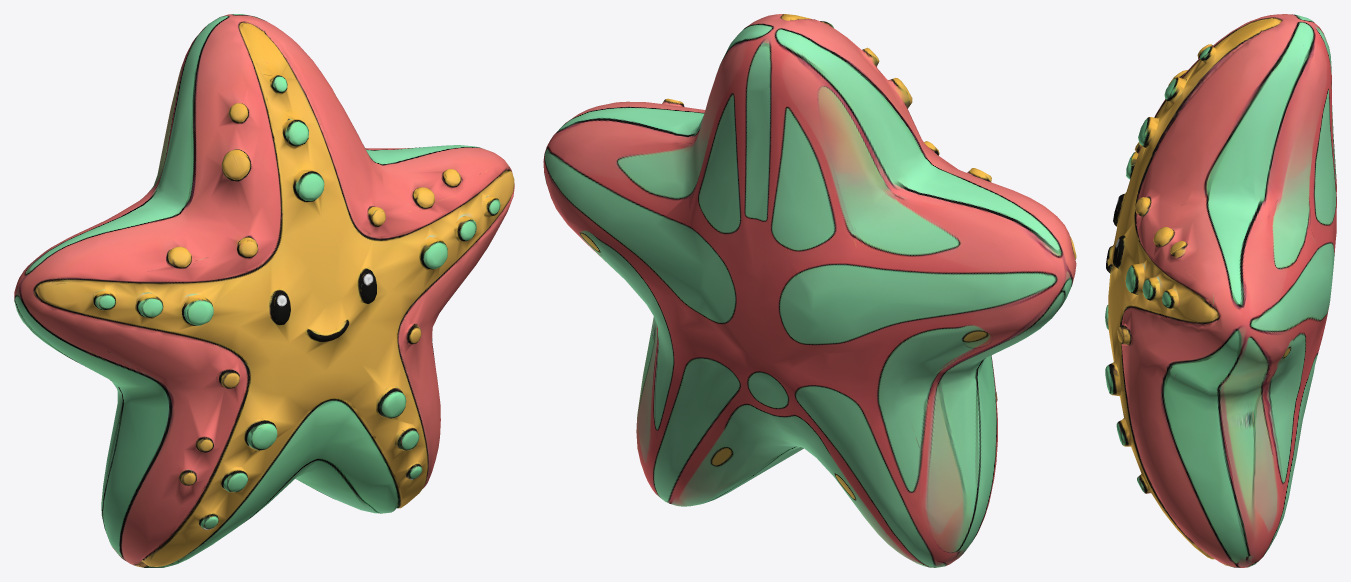
File: static.glb
The picture shows the model from 3 angles, left to right: view 1: azimuth 30°, elevation 25°; view 2: azimuth 150°, elevation 25°; view 3: azimuth 270°, elevation 25°; orthographic projection. The views are drawn at different scales.
Visible parts, largest first — view 1: Mesh_0; view 2: Mesh_0; view 3: Mesh_0.
Part boxes in pixels (x1,y1,x2,y2): Mesh_0: [14, 14, 514, 567]; Mesh_0: [543, 14, 1076, 567]; Mesh_0: [1105, 14, 1336, 567].
Size of the model in its own units: 1.9 by 1.85 by 0.7933.
1 material, 1 textured.
